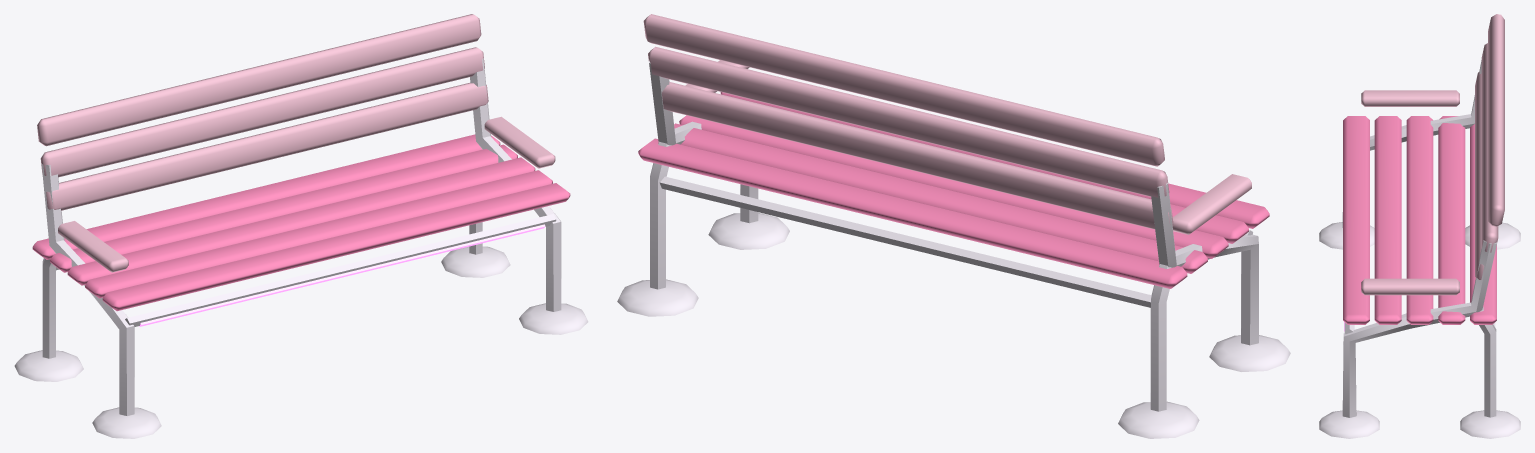
File: bench_bubble.glb
3 views of the same model, side by side, from view 1: azimuth 30°, elevation 25°; view 2: azimuth 150°, elevation 25°; view 3: azimuth 270°, elevation 25° (orthographic). The views are drawn at different scales.
Visible parts, largest first — view 1: bench_bubble; view 2: bench_bubble; view 3: bench_bubble.
Part boxes in pixels (<box>): bench_bubble: <box>14,14,588,438</box>; bench_bubble: <box>617,14,1290,438</box>; bench_bubble: <box>1319,14,1520,438</box>.
Bounding box in the file's own units: 2.17 × 1.05 × 0.8568.
